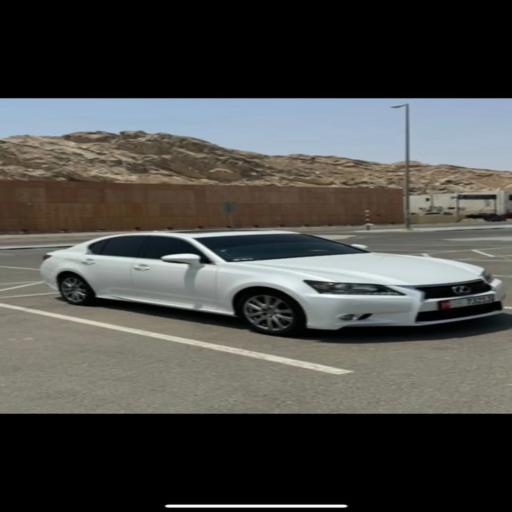license-plates: (439, 295, 492, 310)
